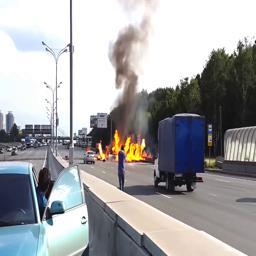fire: (99, 130, 152, 162)
